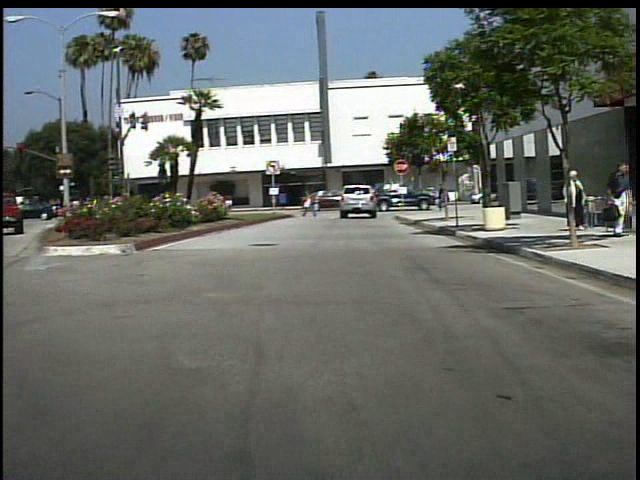person: (607, 160, 632, 239), (563, 170, 591, 231), (435, 179, 458, 214), (305, 186, 322, 219)
